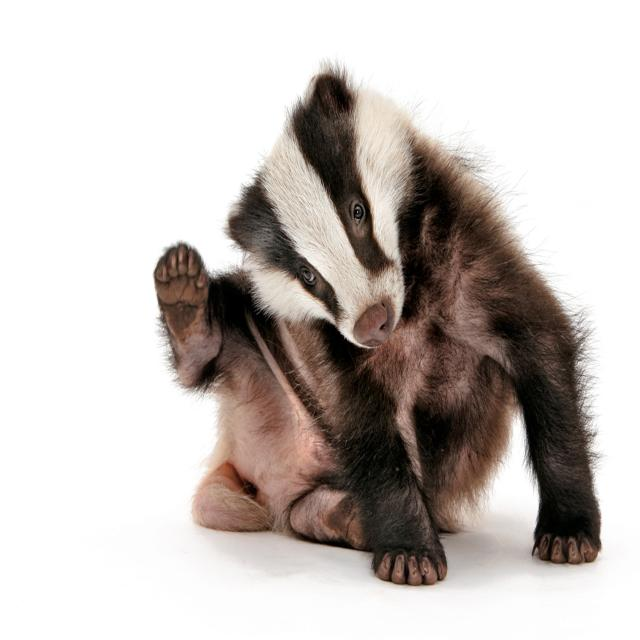Badger: (154, 70, 602, 576)
